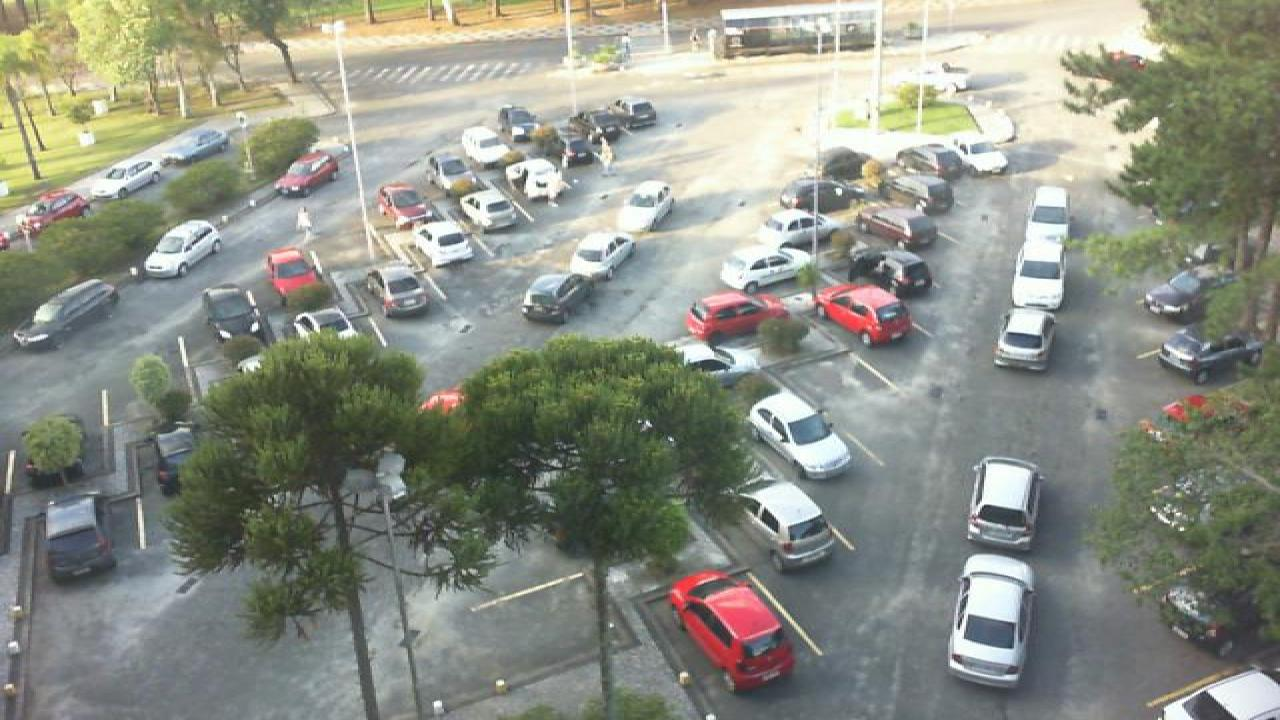Car: (664, 569, 798, 692), (946, 552, 1036, 688), (742, 390, 852, 482), (738, 480, 836, 570), (14, 278, 120, 352), (966, 456, 1044, 550), (40, 493, 116, 583), (1160, 324, 1260, 386), (1158, 670, 1280, 720), (820, 284, 914, 348), (684, 289, 790, 343), (144, 218, 222, 278), (1008, 236, 1068, 312), (670, 340, 766, 387), (850, 243, 932, 298), (1140, 268, 1220, 324), (720, 246, 814, 292), (750, 208, 850, 251), (852, 206, 942, 250), (992, 308, 1054, 371), (202, 286, 270, 343), (520, 272, 592, 324), (10, 189, 94, 233), (264, 244, 322, 305), (272, 147, 340, 199), (90, 158, 170, 202), (362, 266, 428, 318), (404, 221, 470, 272), (878, 174, 958, 216), (568, 231, 638, 279), (152, 423, 198, 495), (778, 177, 864, 215), (498, 156, 566, 202), (1024, 184, 1074, 246), (458, 186, 520, 234), (614, 181, 674, 230), (422, 146, 484, 192), (892, 142, 964, 179), (374, 182, 430, 229), (804, 146, 874, 181), (496, 102, 554, 144), (290, 310, 356, 346), (168, 125, 232, 161), (460, 125, 516, 166), (944, 140, 1010, 174), (596, 97, 658, 129), (546, 109, 600, 143)
